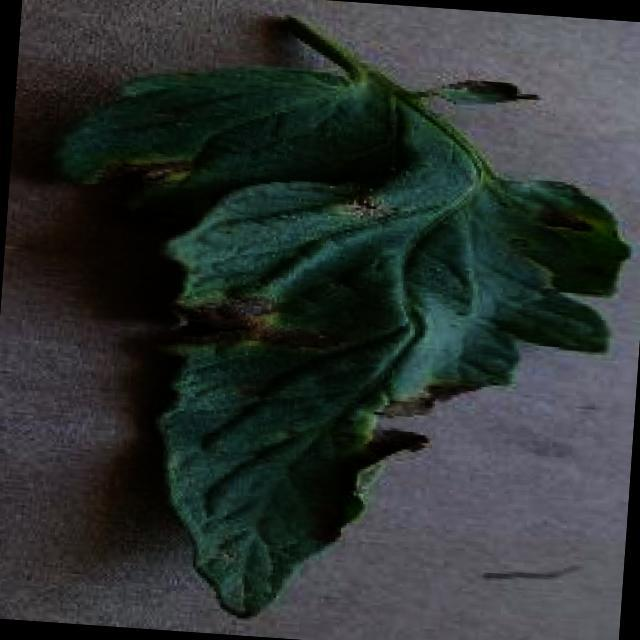Tomato Early blight leaf: (18, 52, 636, 640)
